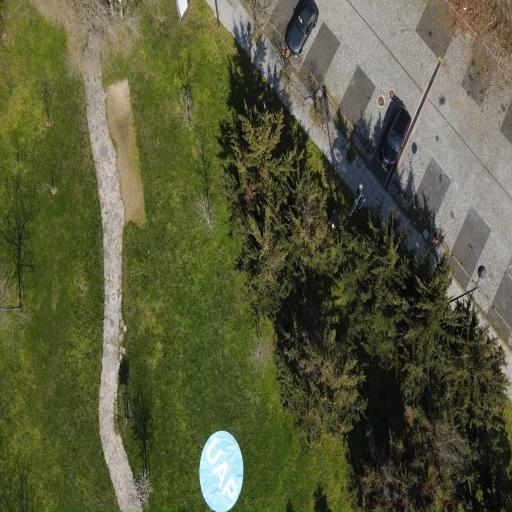car: (199, 431, 243, 512)
person: (286, 0, 318, 56), (382, 106, 411, 165)
